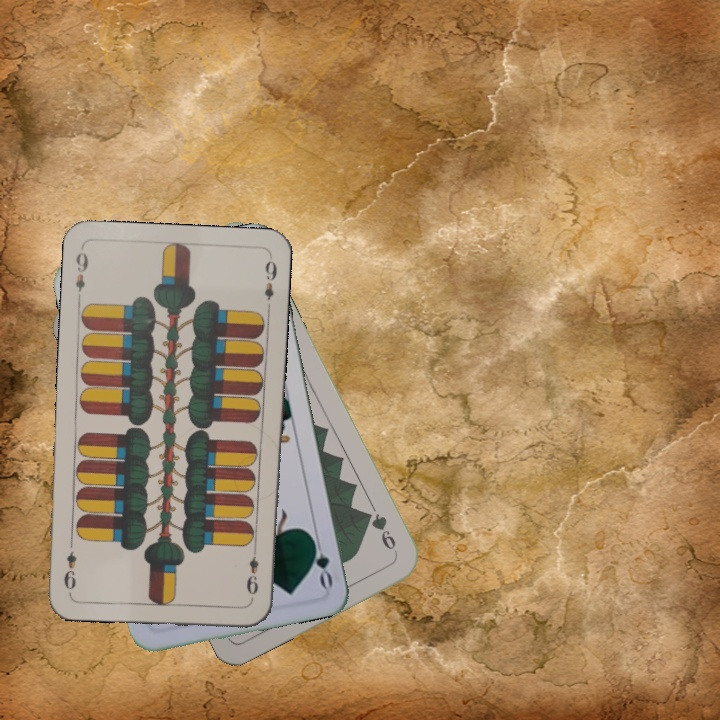E9: (71, 248, 91, 304), (243, 543, 261, 597)
G9: (360, 507, 401, 558)
GO: (306, 531, 336, 590)
